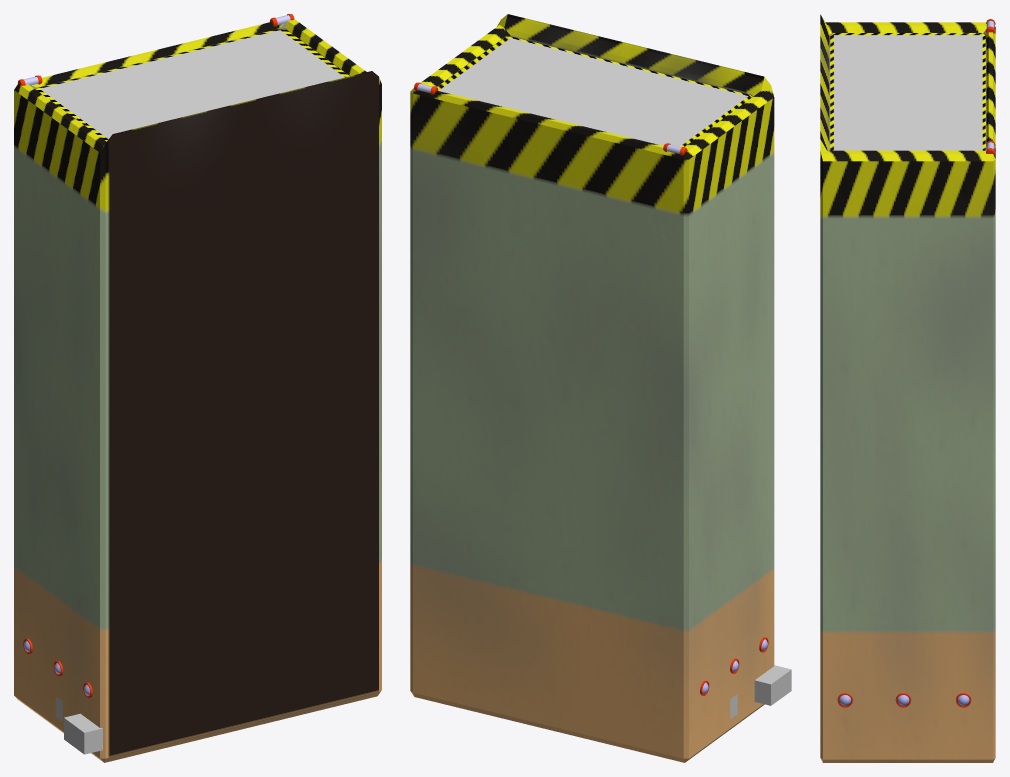
Rendered from hangar2.fbx.
3 renders of one model, left to right at view 1: azimuth 30°, elevation 25°; view 2: azimuth 150°, elevation 25°; view 3: azimuth 270°, elevation 25°, orthographic.
Visible parts, largest first — view 1: model, gates, airlock_outer; view 2: model, gates, airlock_outer; view 3: model, gates, hangar_space.
Part boxes in pixels (x1,y1,x2,y2): model: (14,19,381,762); gates: (36,29,349,141); airlock_outer: (64,713,102,754); model: (410,14,774,762); gates: (437,36,752,147); airlock_outer: (754,665,791,705); model: (820,14,995,762); gates: (830,33,985,150); hangar_space: (829,43,986,150).
Size of what is drawn, in the model's own units: 12.39 by 24.6 by 6.3.
Materials: 9 (6 with a texture image).
